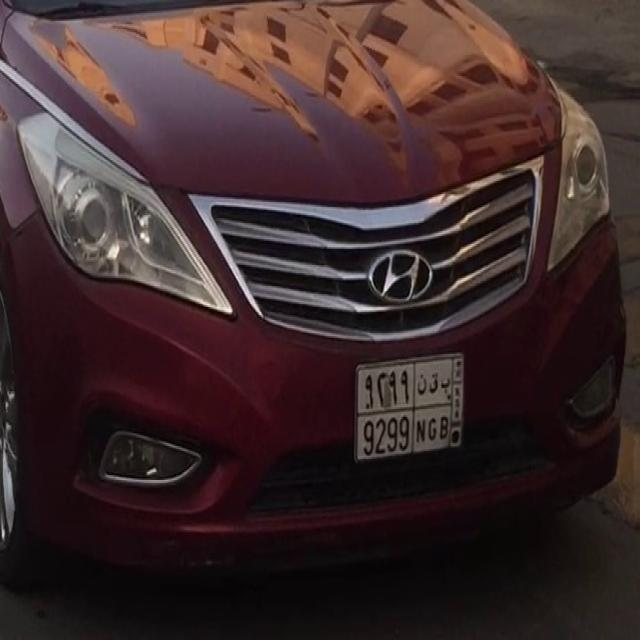Car-plate: (339, 343, 479, 487)
